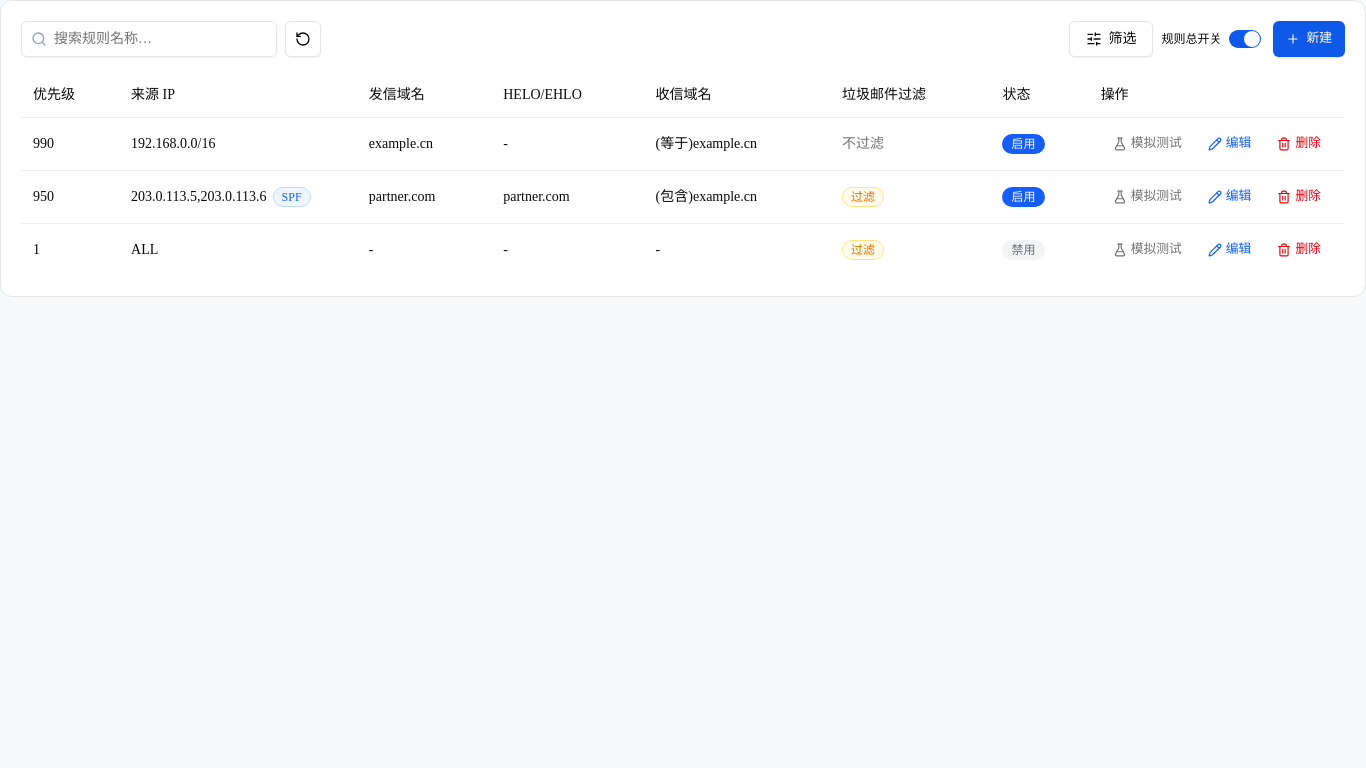
Test: RelayTab › editing 8002 shows its real priority/HELO/rcpt fields (990/partner.com/example.cn/contains)
The image size is (1366, 768).
Click the button with test id "mr-relay-edit-8002": (1230, 196) 1196,182 -> 1263,210
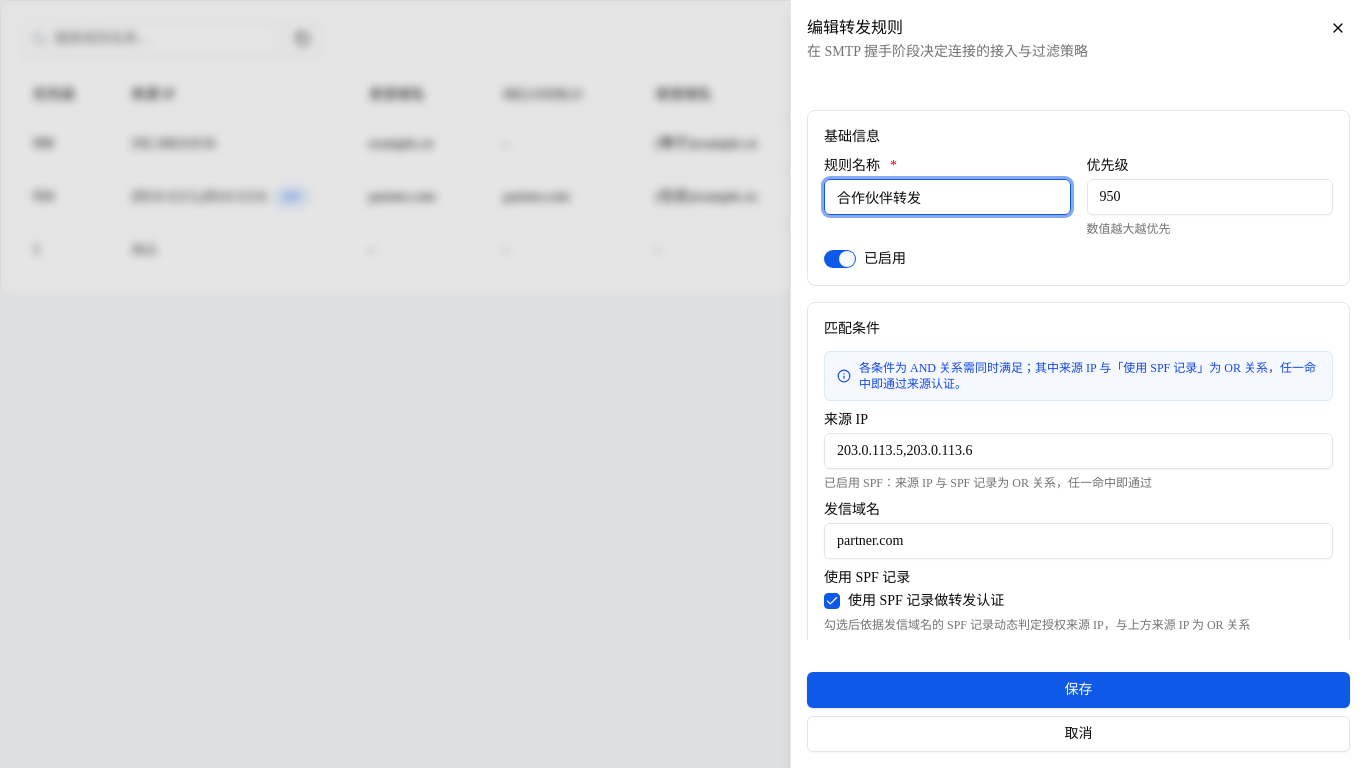
Now the dialog with test id "mr-relay-drawer" is shown, box 790,0 -> 1365,767
Now the number field with test id "mr-relay-priority-input" holds "950", box 1086,179 -> 1333,215
